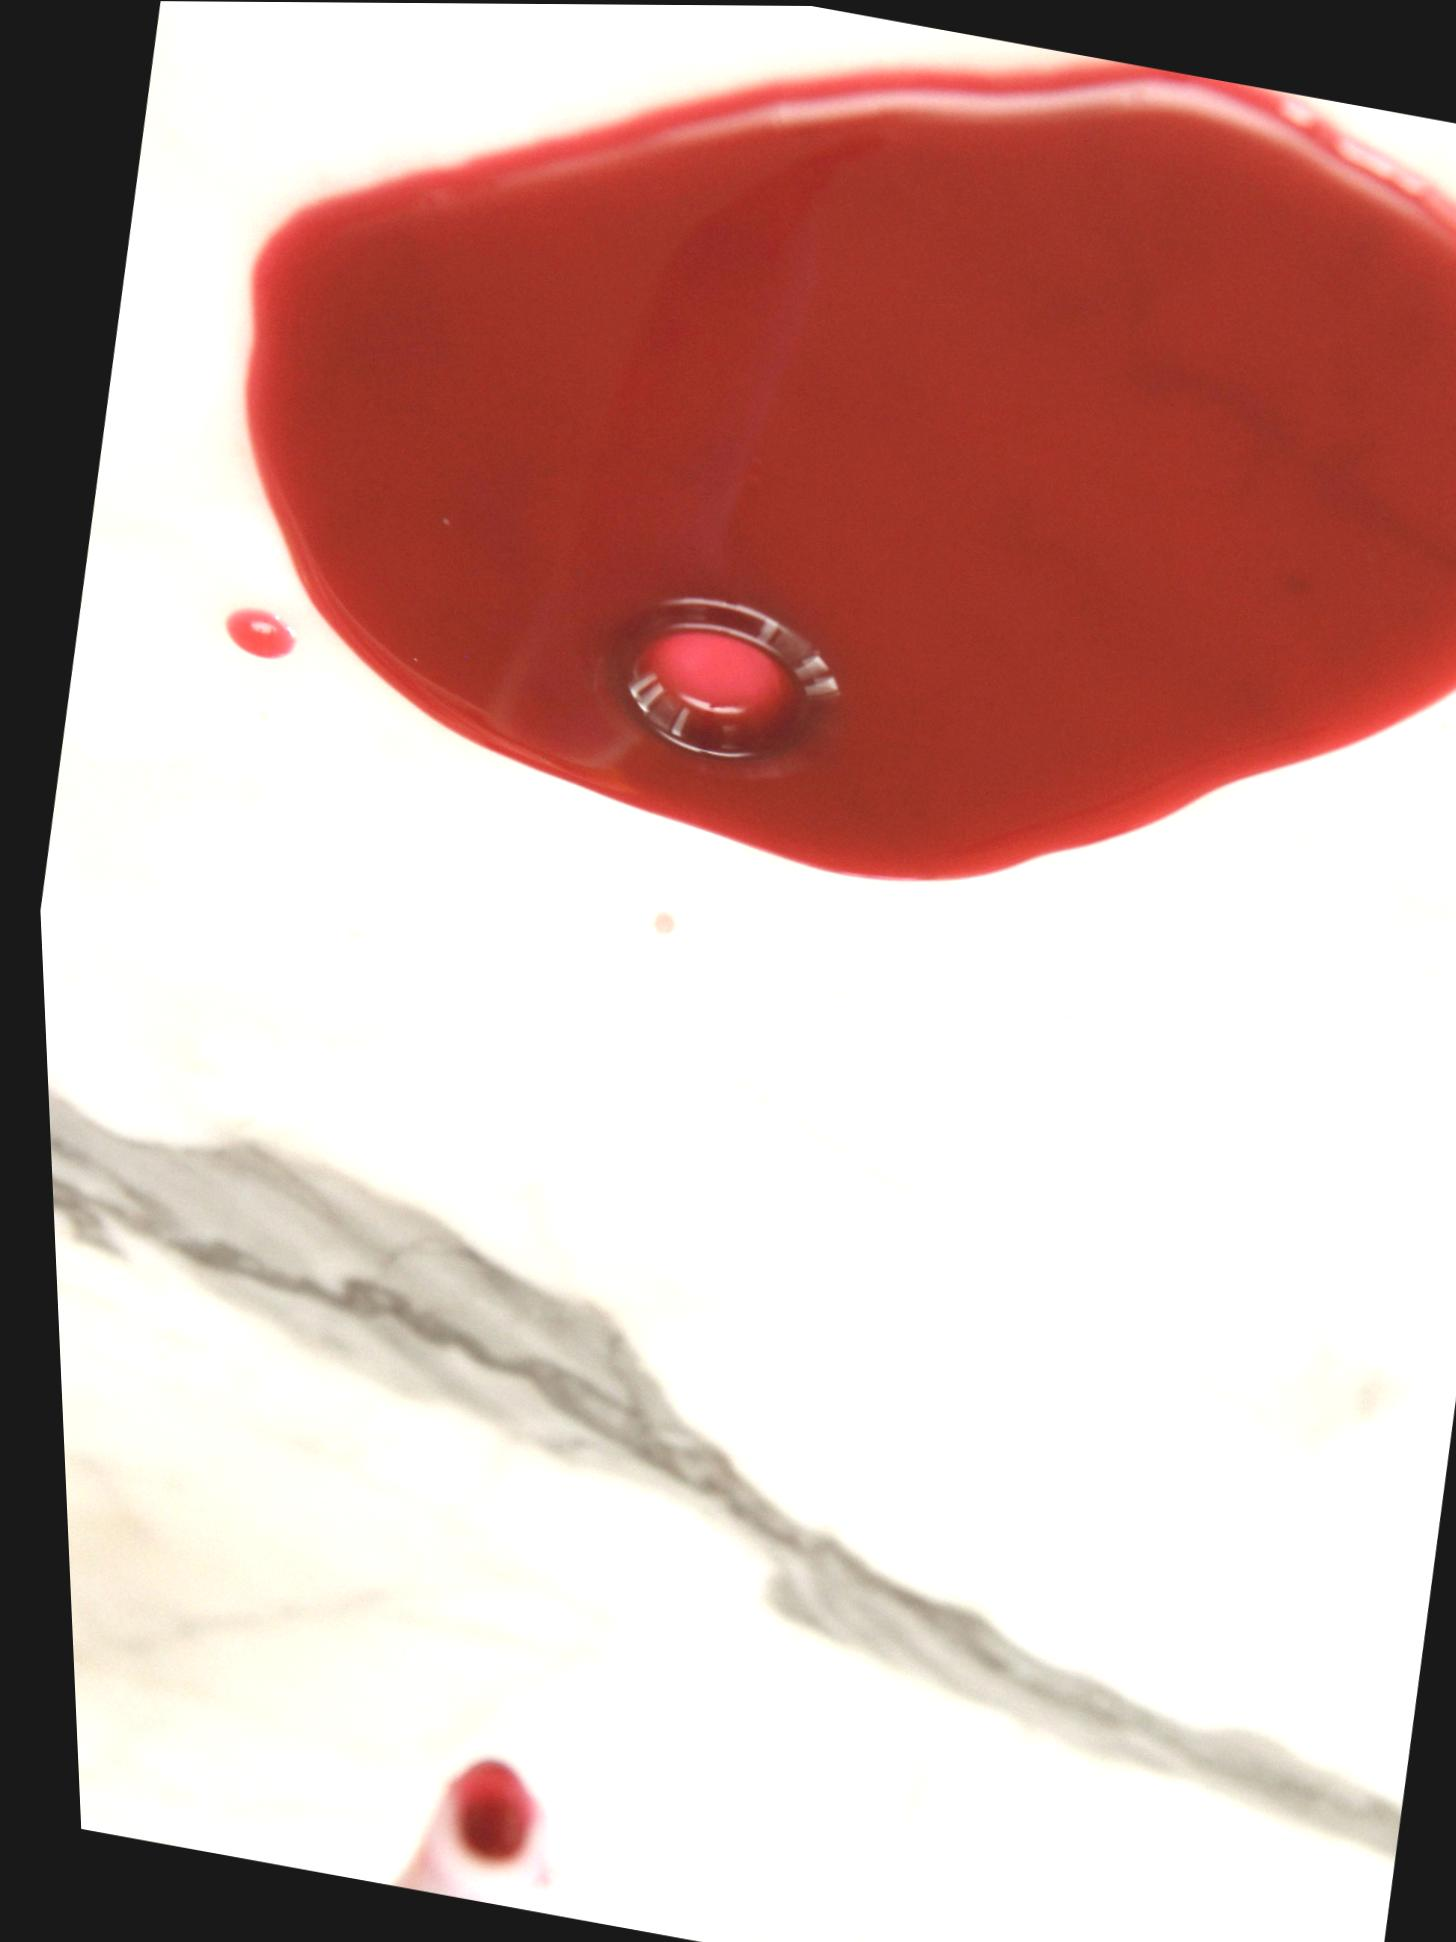Fire: (240, 55, 1456, 881), (219, 607, 289, 659)
